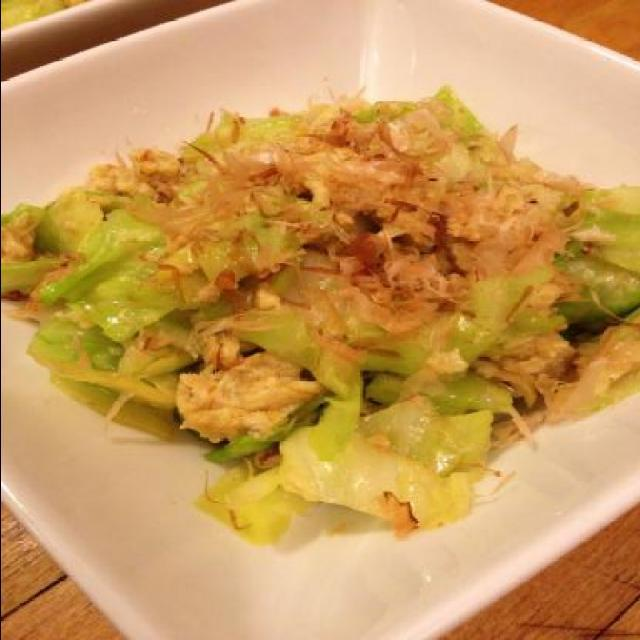Salad: (2, 83, 640, 549)
